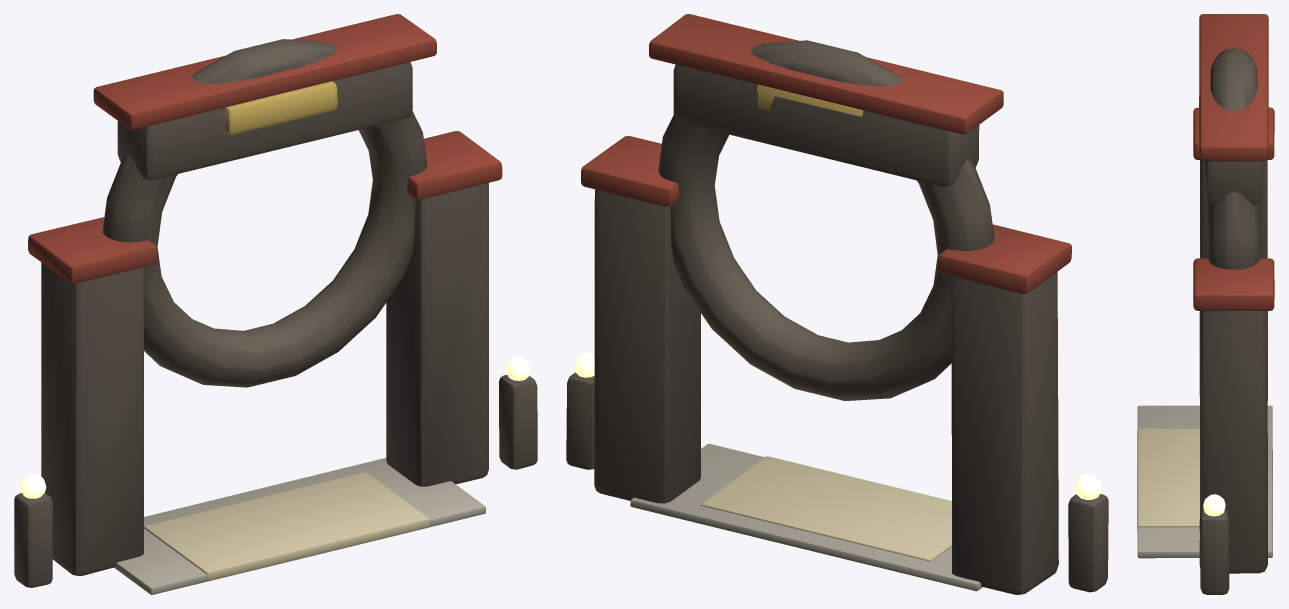
3 renders of one model, left to right at view 1: azimuth 30°, elevation 25°; view 2: azimuth 150°, elevation 25°; view 3: azimuth 270°, elevation 25°, orthographic. The views are drawn at different scales.
Parts seen in each view (by area): view 1: gate_8c2dbe23; view 2: gate_8c2dbe23; view 3: gate_8c2dbe23.
Part boxes in pixels (box(x1,y1,x2,y2)): gate_8c2dbe23: box(14, 14, 537, 594); gate_8c2dbe23: box(566, 14, 1108, 594); gate_8c2dbe23: box(1137, 14, 1274, 594).
Size of the model in its own units: 5.51 by 4.82 by 1.42.
